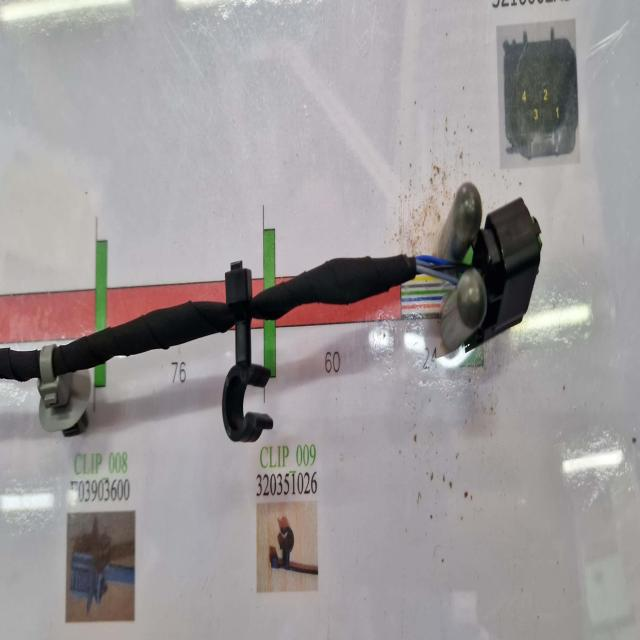Clip: (222, 260, 272, 442), (38, 344, 91, 437)
Connector: (466, 198, 541, 347)
Gape: (410, 230, 491, 313)
MHEV_N11_Cable: (0, 255, 416, 442)
